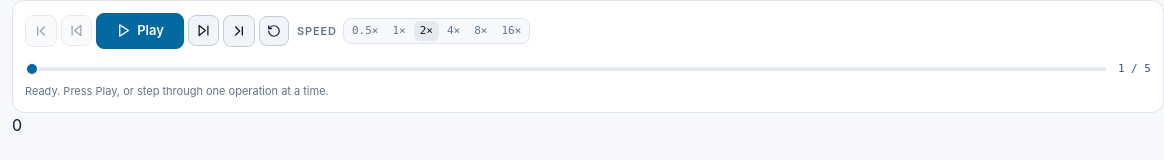
PlaybackControls › disables forward controls at the end
The width and height of the screenshot is (1164, 160).
Click the button named "Go to last step" at (239, 31), box [223,15,255,47]
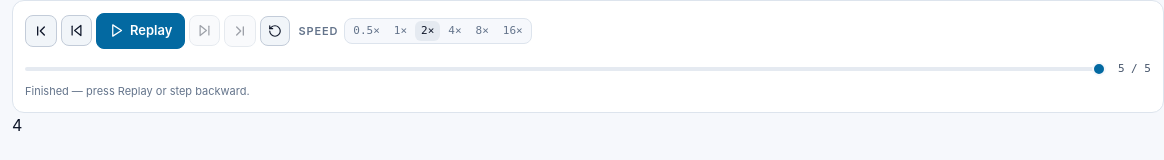
Check: the text "5 / 5" is shown, box [1118,60,1151,77]
Check: the button named "Step forward" is disabled, box [189,15,220,46]
Check: the button named "Go to last step" is disabled, box [224,15,256,47]
